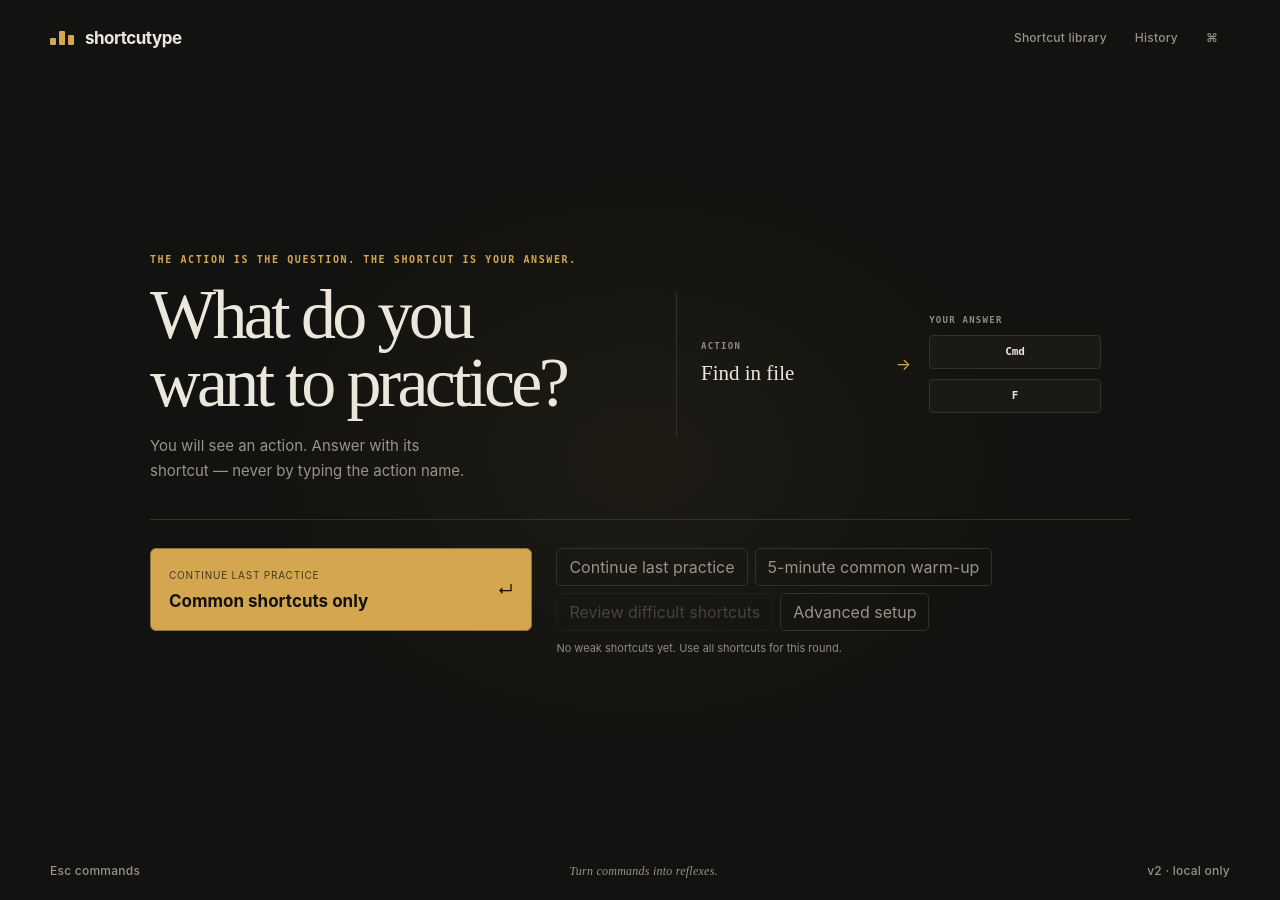
keyboard-first practice flow › shows actionable empty states for weak review and library search
Expected: the text "No weak shortcuts yet. Use all shortcuts for this round." is shown, x1=556 y1=641 x2=842 y2=655
Click the button "Shortcut library".
click(1060, 38)  # box x1=1002 y1=22 x2=1119 y2=54
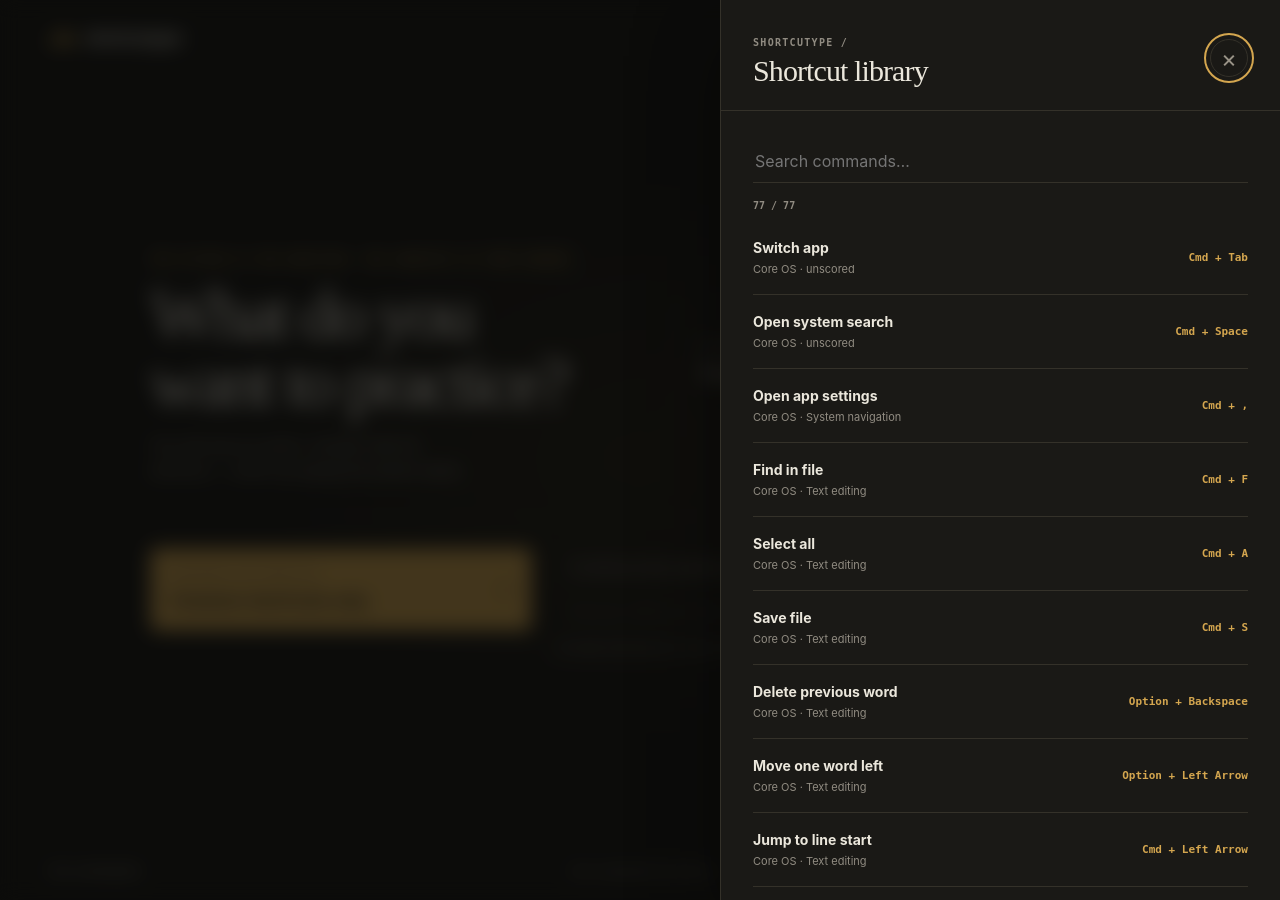
Type "not-a-real-shortcut" into the field labelled "Search commands…".
click(1000, 161); type("not-a-real-shortcut")  # box x1=753 y1=139 x2=1248 y2=183
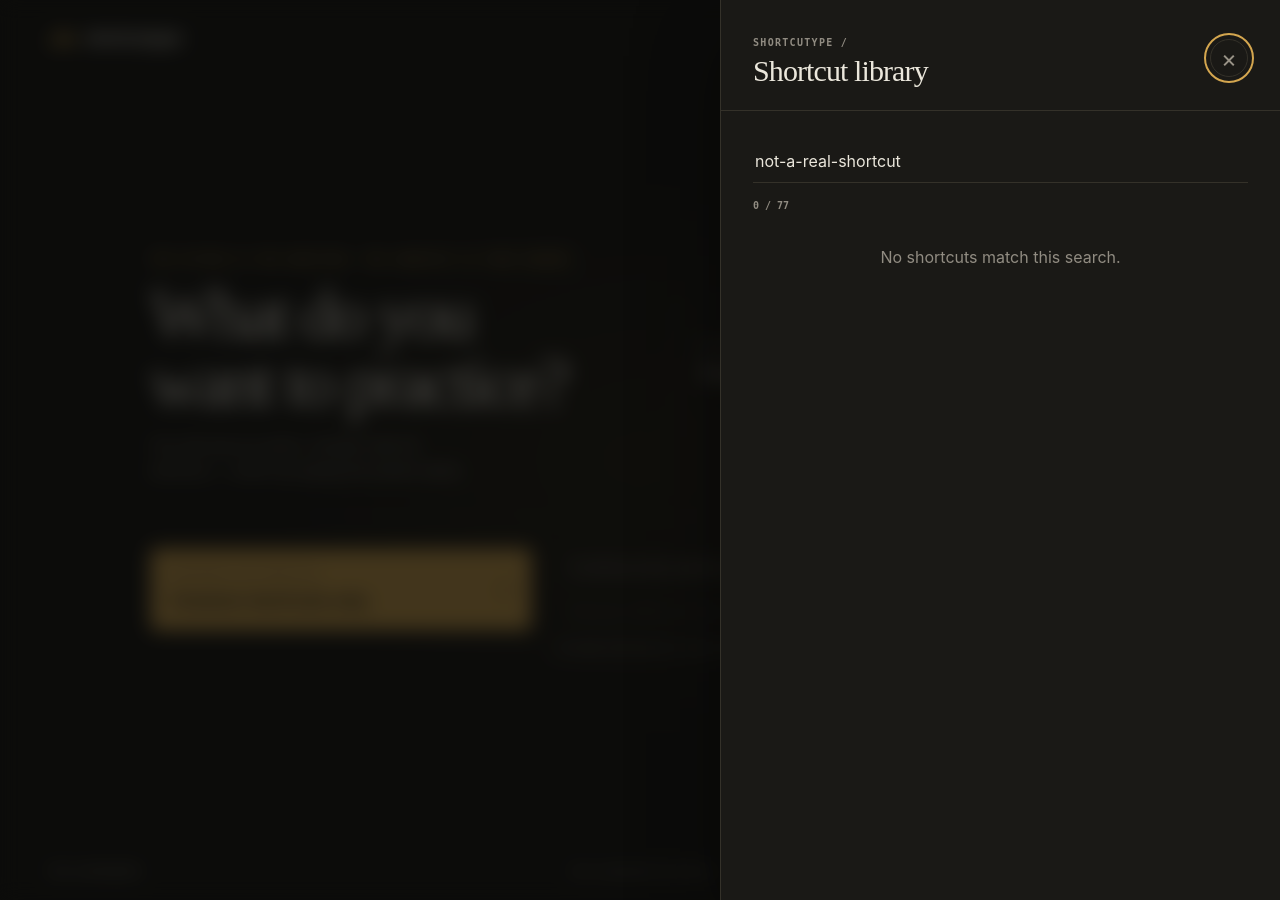
Now the message reads "No shortcuts match this search.", box x1=880 y1=247 x2=1121 y2=267
